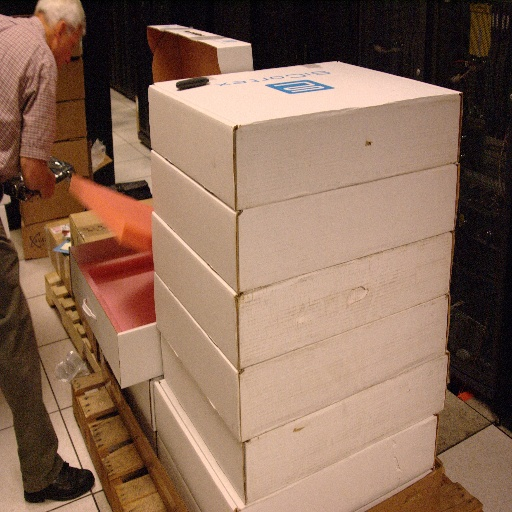hand: (9, 53, 58, 207)
